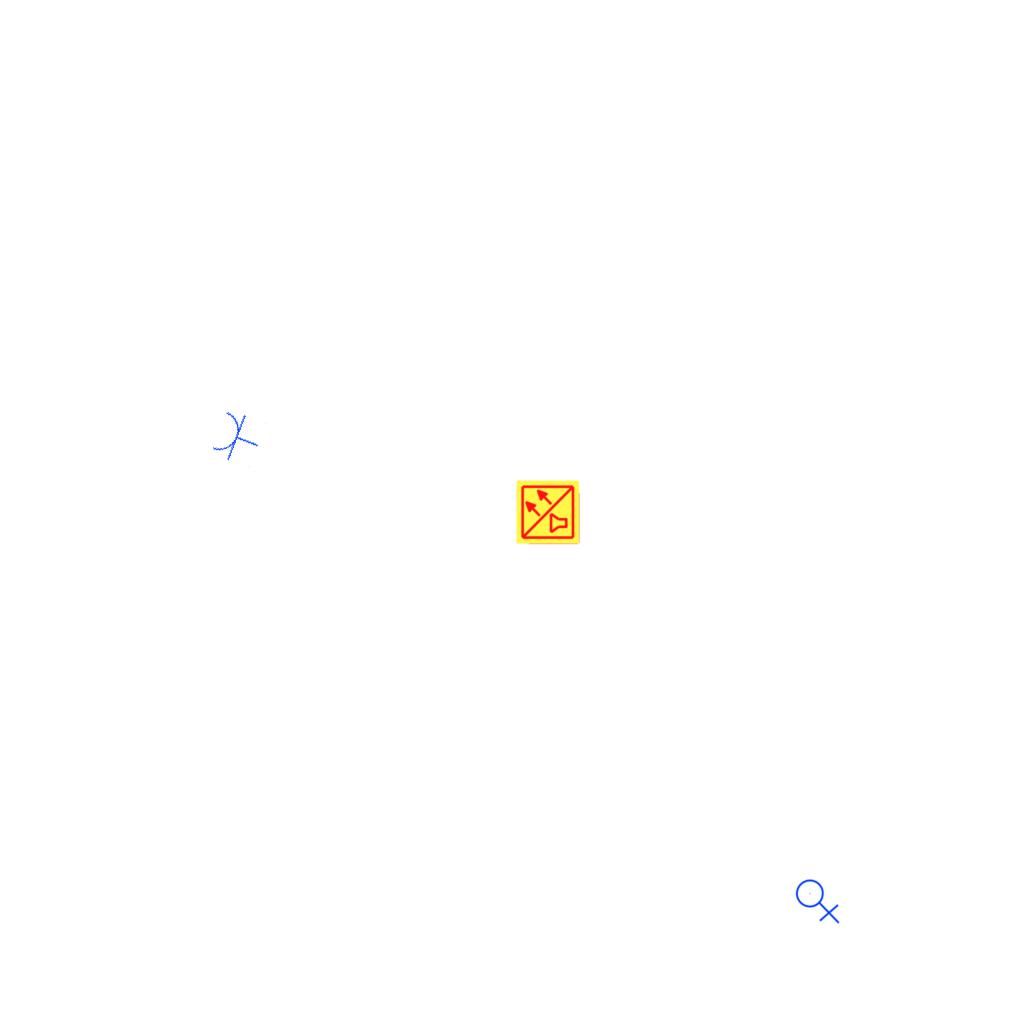Elektroanschluss_allgemein_230V_Geraeteanschlussdose_230V: (795, 875, 842, 924)
OKW_Multisensormelder_(Kombination_optischer_Rauch-Kahlenmonoxid_Waerme-Melder): (515, 479, 581, 545)
Schukosteckdose_einfach: (208, 406, 268, 469)
